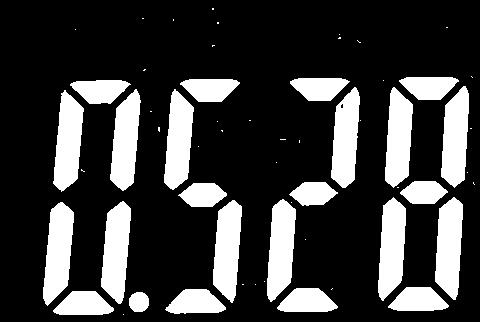0: (42, 75, 142, 319)
2: (265, 73, 363, 311)
5: (160, 73, 247, 315)
8: (376, 74, 471, 313)
dot: (126, 288, 151, 315)
